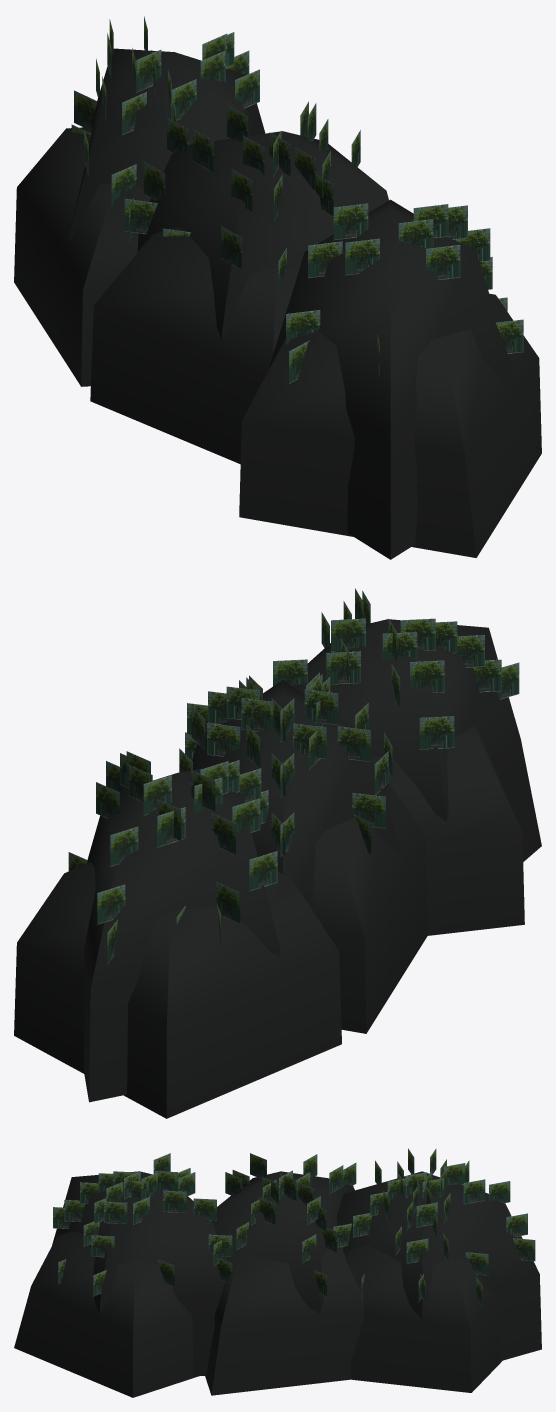
Rendered from AMB_MOUNT3.glb.
3 renders of one model, top to bottom at view 1: azimuth 30°, elevation 25°; view 2: azimuth 150°, elevation 25°; view 3: azimuth 270°, elevation 25°, orthographic. The views are drawn at different scales.
Visible parts, largest first — view 1: J02, J01, J00; view 2: J00, J02, J01; view 3: J00, J02, J01.
Boxes of the visible parts, left/top/right/bottom form: J02: left=239, top=199, right=541, bottom=559; J01: left=90, top=101, right=388, bottom=464; J00: left=14, top=16, right=265, bottom=386; J00: left=14, top=751, right=341, bottom=1118; J02: left=273, top=588, right=541, bottom=935; J01: left=179, top=672, right=427, bottom=1033; J00: left=333, top=1148, right=541, bottom=1392; J02: left=14, top=1153, right=232, bottom=1397; J01: left=205, top=1153, right=364, bottom=1395.
Size of the model in its own units: 188 by 176 by 449.
6 materials, 6 textured.
